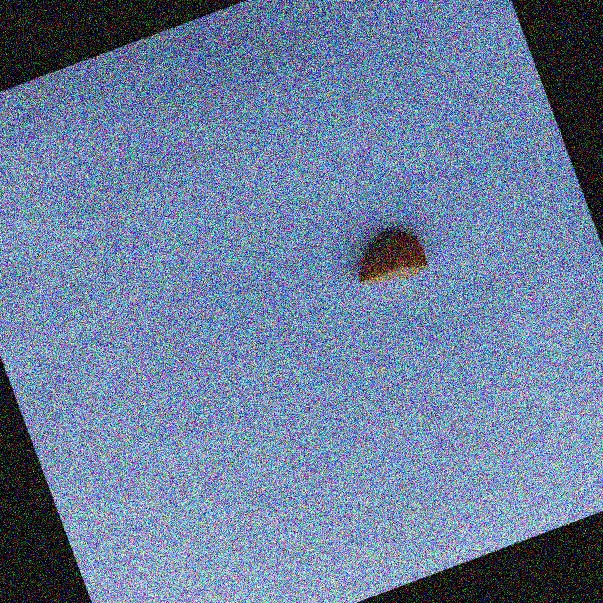grade4: (338, 216, 439, 301)
